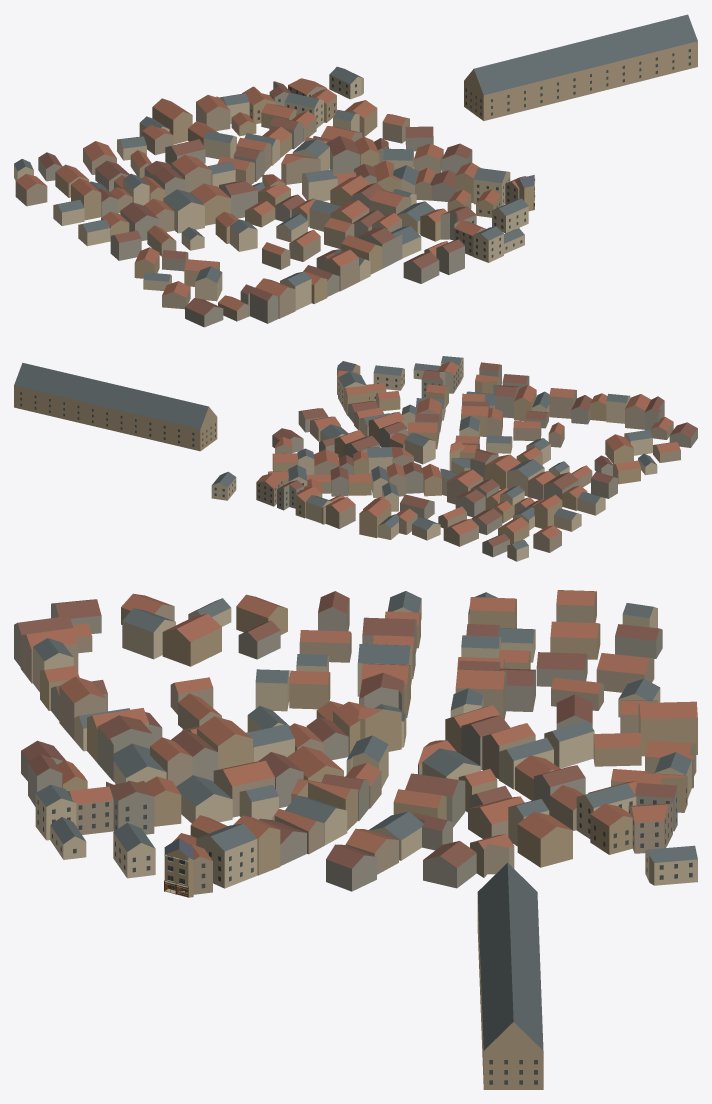
The picture shows the model from 3 angles, top to bottom: view 1: azimuth 30°, elevation 25°; view 2: azimuth 150°, elevation 25°; view 3: azimuth 270°, elevation 25°; orthographic projection. The views are drawn at different scales.
Parts seen in each view (by area): view 1: C_1_1; view 2: C_1_1; view 3: C_1_1.
Part boxes in pixels (x1,y1,x2,y2): C_1_1: (14,14,697,327); C_1_1: (14,356,697,561); C_1_1: (14,590,697,1089).
Bounding box in the file's own units: 315 × 20.99 × 191.
Materials: 21 (3 with a texture image).
